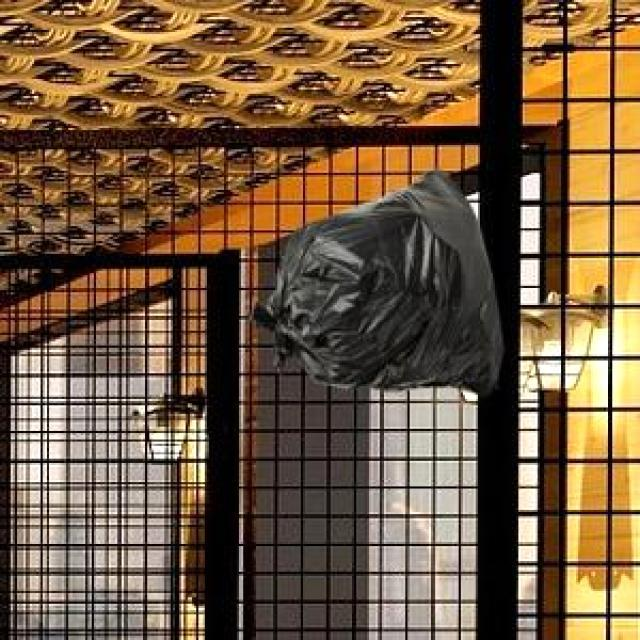Garbage_Bag: (244, 166, 500, 392)
